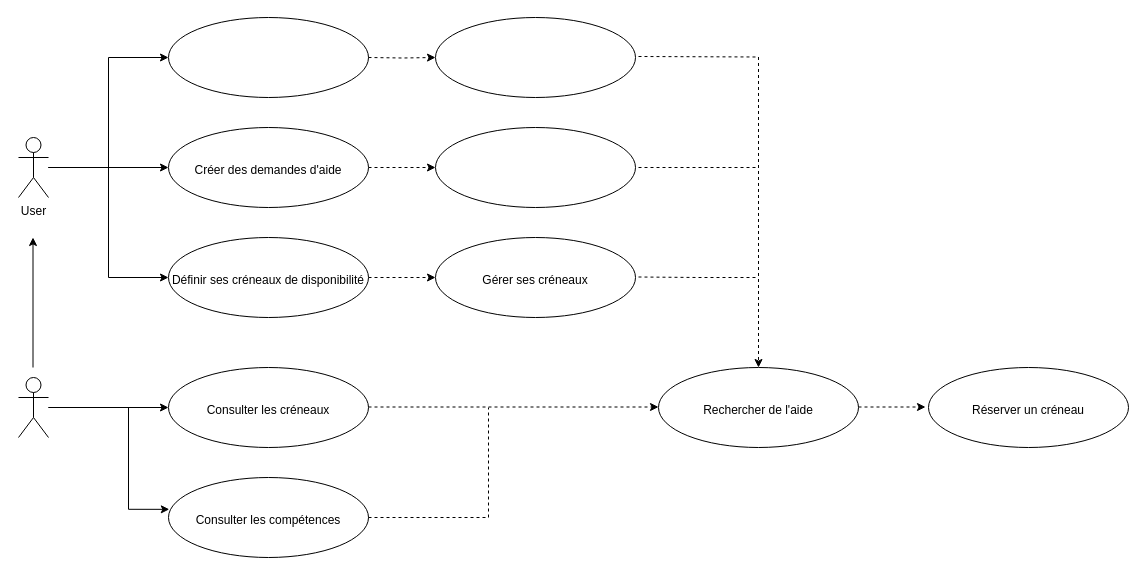
This 1146x575 diagram has some shape labels left out. Each missing label, with the box of its shape:
Définir ses compétences: (168, 16, 368, 98)
Gérer ses compétences: (434, 16, 636, 98)
Gérer ses demandes d'aide: (434, 126, 636, 208)
Visitor: (18, 376, 48, 438)
